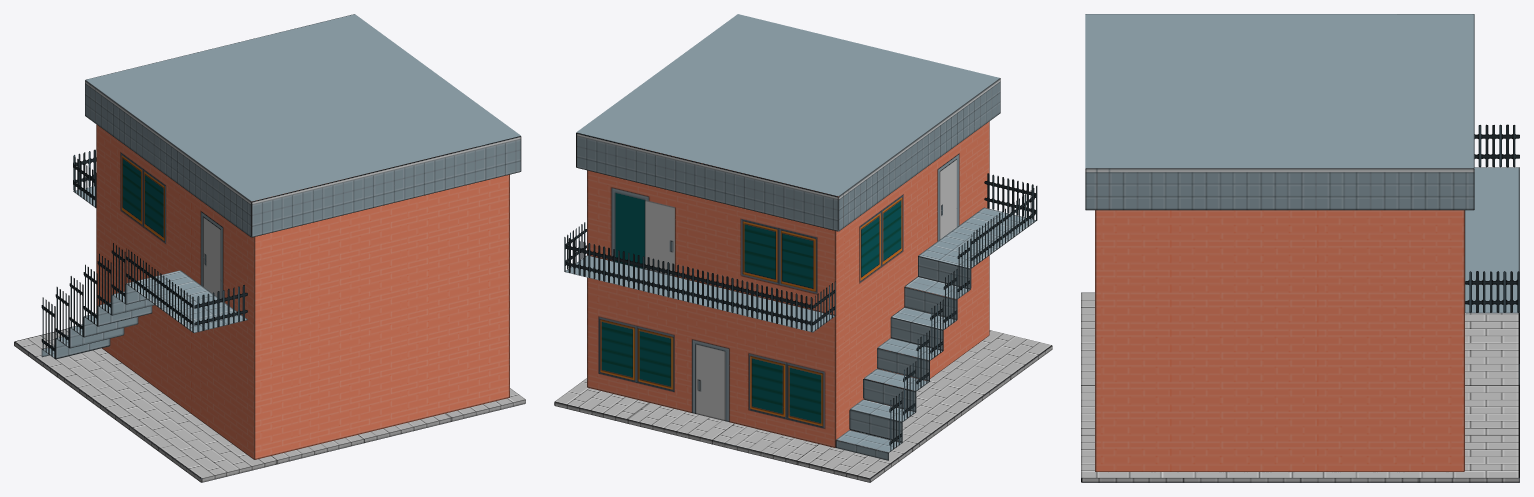
File: staircase house.fbx
3 views of the same model, side by side, from view 1: azimuth 30°, elevation 25°; view 2: azimuth 150°, elevation 25°; view 3: azimuth 270°, elevation 25° (orthographic). The views are drawn at different scales.
Parts seen in each view (by area): view 1: group, plane, plane_7, plane_1, plane_3, plane_2, plane_4, plane_6, plane_5; view 2: group, plane, plane_7, plane_1, plane_5, plane_4, plane_2, plane_3, plane_6; view 3: group, plane.
Boxes of the visible parts, bbox=[...] form: group: bbox=[73, 14, 521, 459]; plane: bbox=[14, 328, 525, 482]; plane_7: bbox=[126, 248, 247, 332]; plane_1: bbox=[41, 297, 110, 359]; plane_3: bbox=[69, 276, 138, 337]; plane_2: bbox=[55, 287, 124, 348]; plane_4: bbox=[83, 264, 152, 326]; plane_6: bbox=[97, 253, 154, 315]; plane_5: bbox=[111, 243, 147, 304]; group: bbox=[564, 14, 1000, 447]; plane: bbox=[554, 330, 1052, 482]; plane_7: bbox=[918, 173, 1037, 268]; plane_1: bbox=[835, 391, 902, 460]; plane_5: bbox=[904, 238, 971, 298]; plane_4: bbox=[877, 299, 943, 360]; plane_2: bbox=[850, 361, 916, 421]; plane_3: bbox=[864, 330, 929, 391]; plane_6: bbox=[891, 269, 957, 329]; group: bbox=[1085, 14, 1519, 471]; plane: bbox=[1081, 292, 1519, 482].
Size of the model in its own units: 1000 by 788 by 1000.
1 material, 1 textured.
